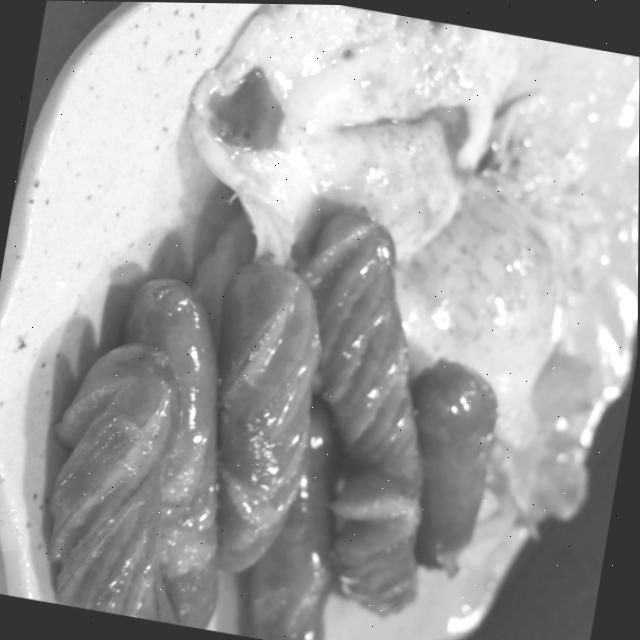鸡蛋料理: (129, 2, 640, 465)
